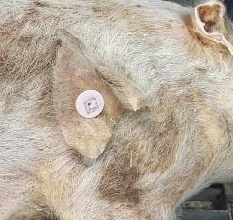text: (67, 81, 118, 129)
